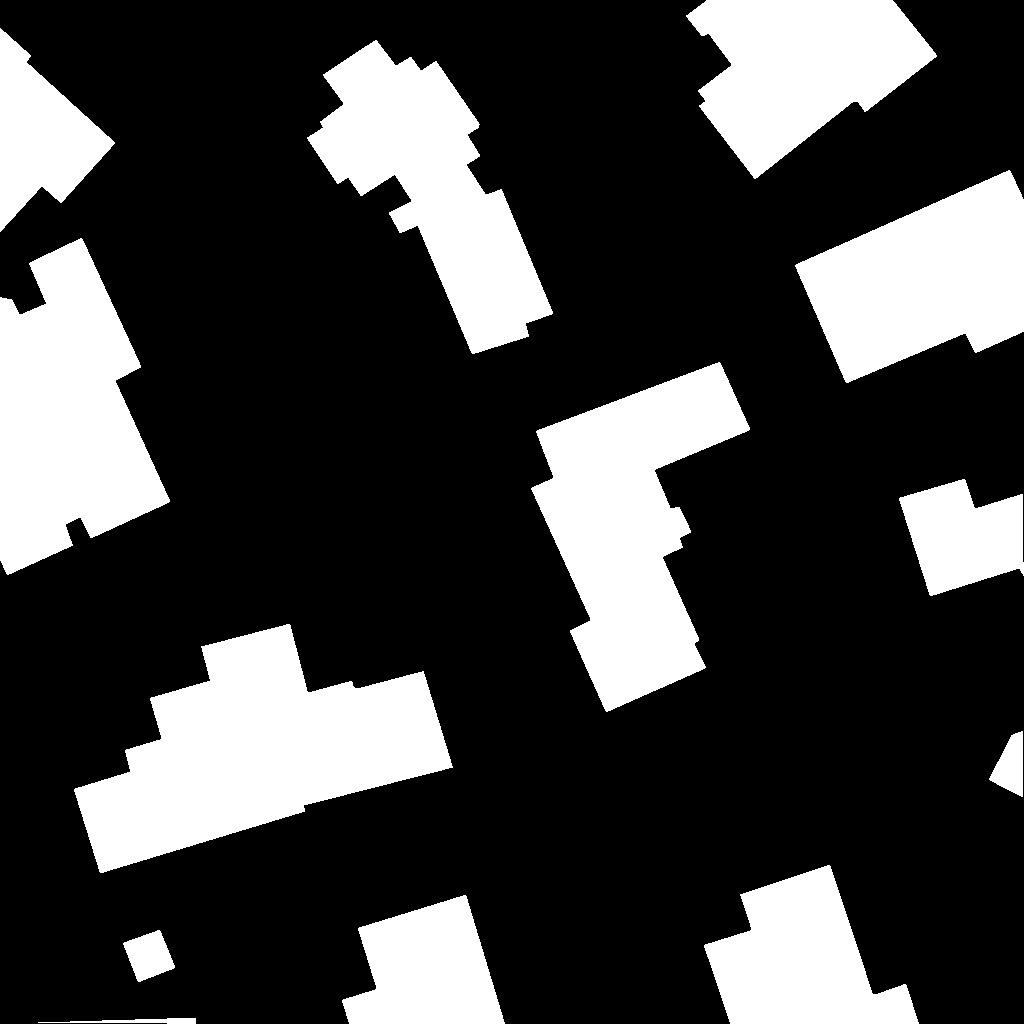building: (74, 624, 454, 874), (307, 40, 554, 355), (531, 362, 751, 713), (0, 238, 171, 576), (795, 170, 1024, 384), (686, 0, 938, 180), (704, 865, 920, 1024), (0, 28, 116, 233), (342, 895, 506, 1024), (899, 479, 1024, 597), (123, 930, 176, 983), (989, 731, 1024, 798), (22, 1018, 197, 1024)
